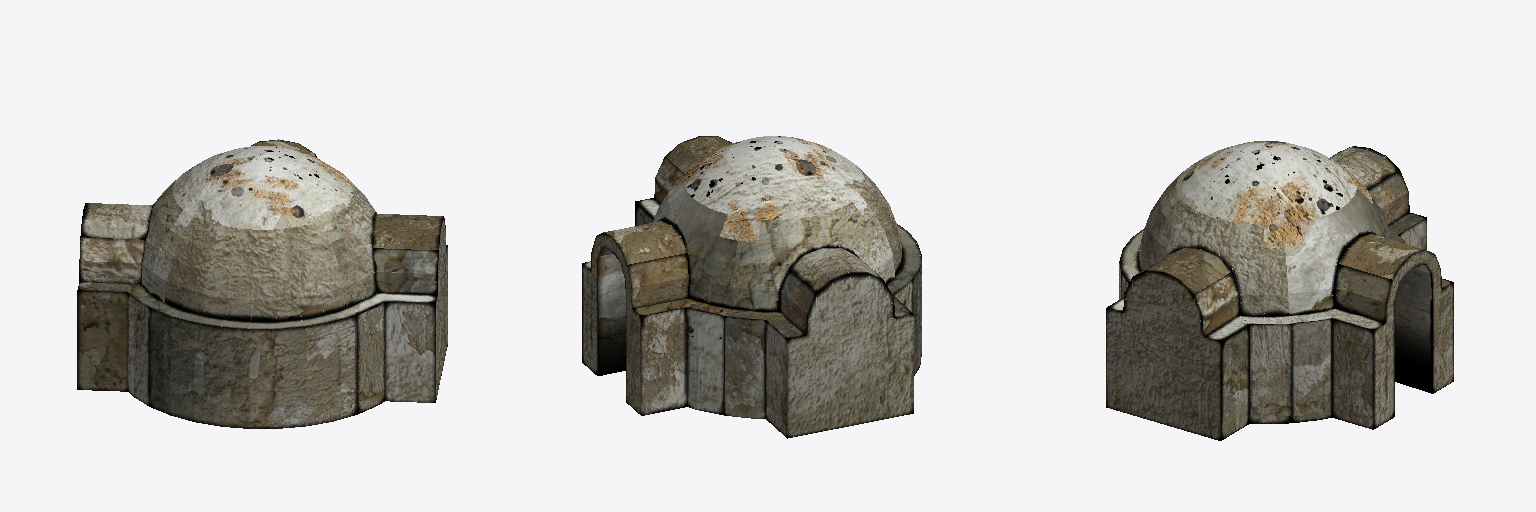
3 renders of one model, left to right at view 1: azimuth 30°, elevation 25°; view 2: azimuth 150°, elevation 25°; view 3: azimuth 270°, elevation 25°, orthographic.
Parts seen in each view (by area): view 1: Sphere; view 2: Sphere; view 3: Sphere.
Boxes of the visible parts, <box> form: Sphere: <box>77,139,447,428</box>; Sphere: <box>582,136,921,438</box>; Sphere: <box>1106,141,1453,440</box>.
Size of the model in its own units: 5.66 by 3.54 by 5.26.
Materials: 1 (1 with a texture image).